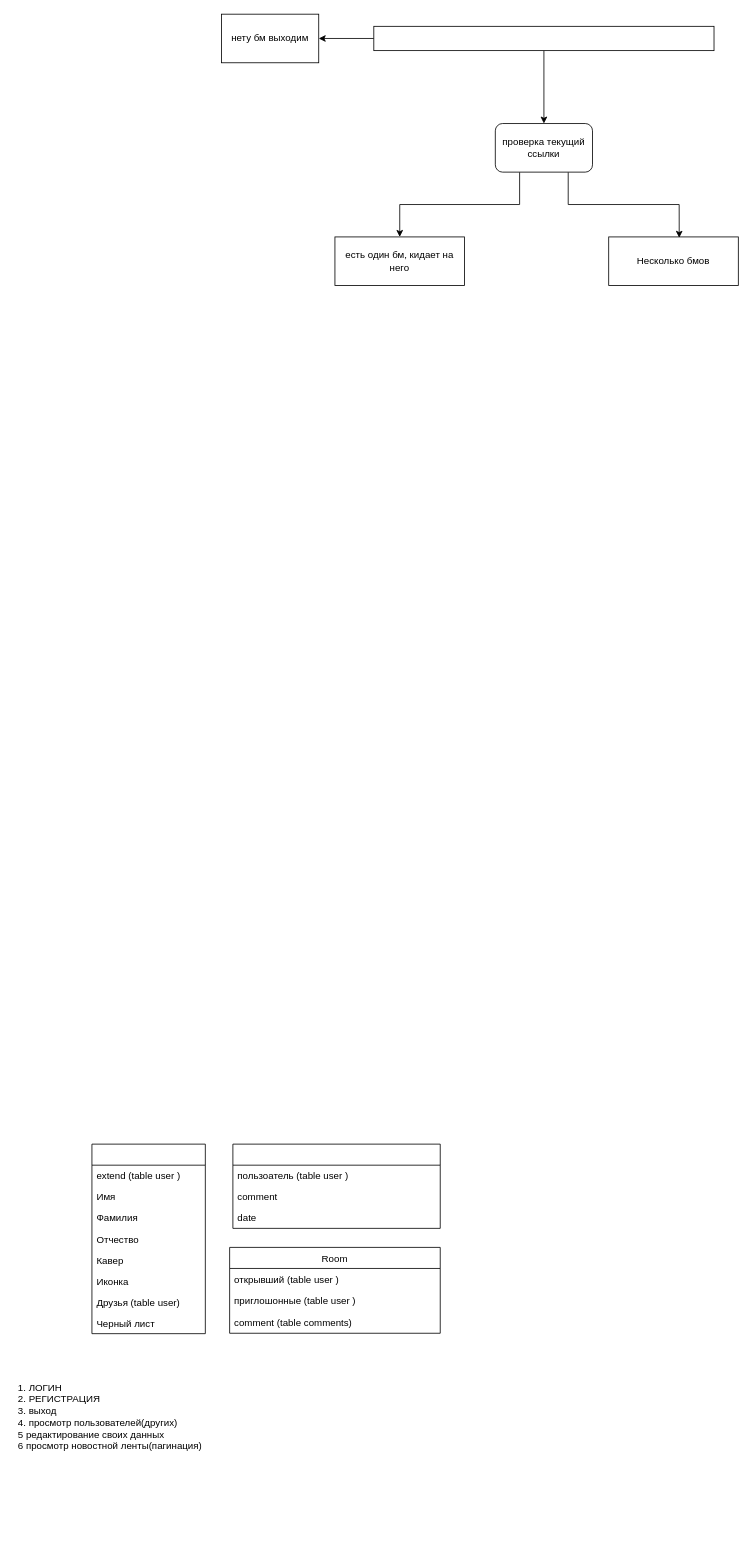
Some shapes in this 752 by 1550 pixel diagram are drawn without their labels. The shapes that lost their labels are listed below. From the top down, each one's box as (x1, y1, x2, y2) in pixels, then its label:
(373, 26, 714, 51): https://business.facebook.com/home/accounts?business_id=
(232, 1143, 440, 1228): Room comment
(91, 1143, 205, 1334): Profile
